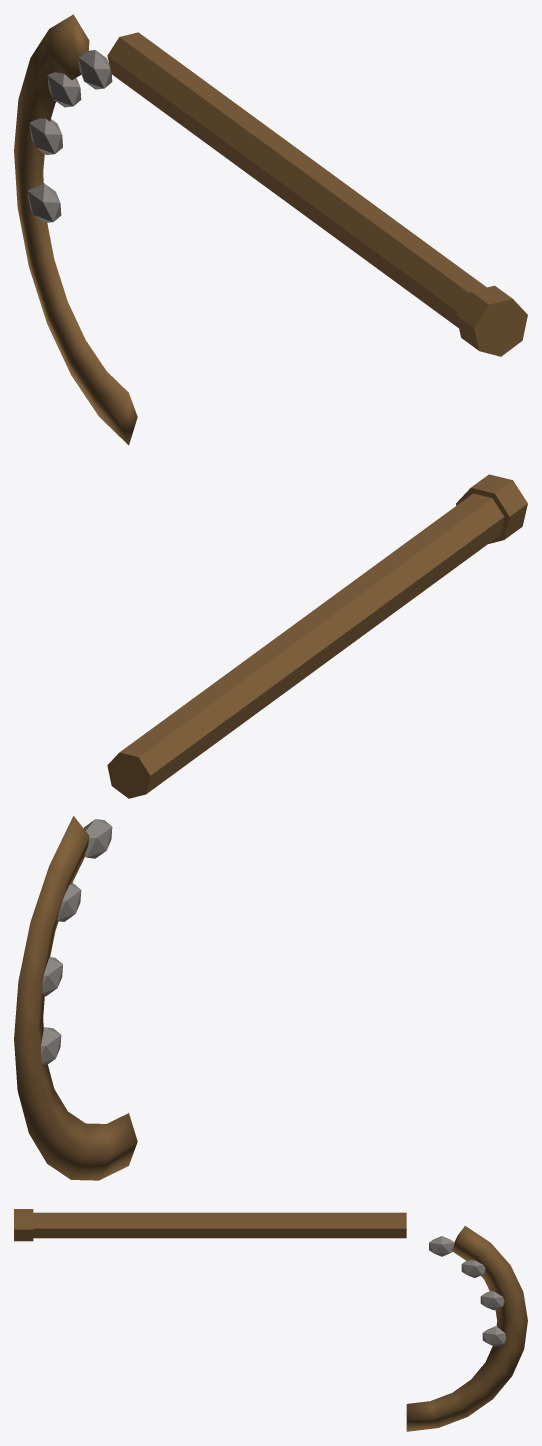
The model's file is Tool_Sickle_Stone.fbx.
The picture shows the model from 3 angles, top to bottom: view 1: azimuth 30°, elevation 25°; view 2: azimuth 150°, elevation 25°; view 3: azimuth 270°, elevation 25°; orthographic projection. The views are drawn at different scales.
Parts seen in each view (by area): view 1: Tool_Sickle_Stone; view 2: Tool_Sickle_Stone; view 3: Tool_Sickle_Stone.
Part boxes in pixels (x1,y1,x2,y2): Tool_Sickle_Stone: [14, 14, 527, 445]; Tool_Sickle_Stone: [14, 474, 527, 1180]; Tool_Sickle_Stone: [14, 1209, 527, 1431].
Size of the model in its own units: 1.71 by 12.59 by 26.7.
